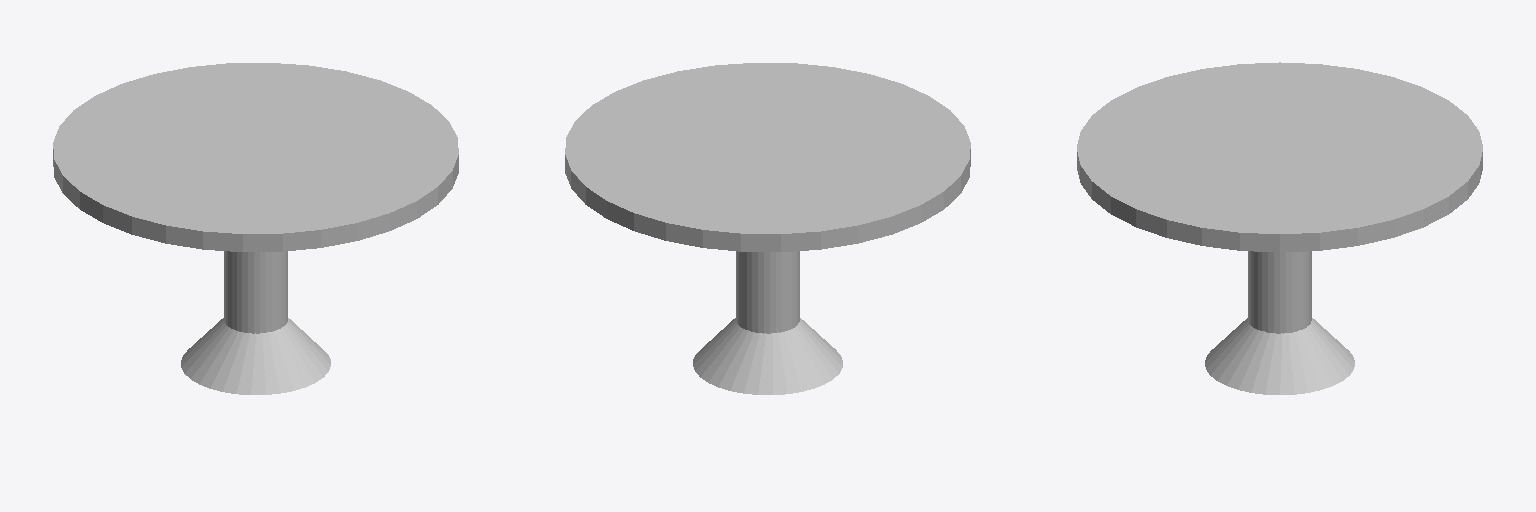
Rendered from mesa_ext_3.obj.
The picture shows the model from 3 angles: view 1: azimuth 30°, elevation 25°; view 2: azimuth 150°, elevation 25°; view 3: azimuth 270°, elevation 25°; orthographic projection.
Parts seen in each view (by area): view 1: Cilindro.002; view 2: Cilindro.002; view 3: Cilindro.002.
Boxes of the visible parts, box(x1,y1,x2,y2) form: Cilindro.002: box(53, 63, 458, 394); Cilindro.002: box(565, 63, 970, 394); Cilindro.002: box(1077, 62, 1482, 394).
Bounding box in the file's own units: 1.2 × 0.7 × 1.2.